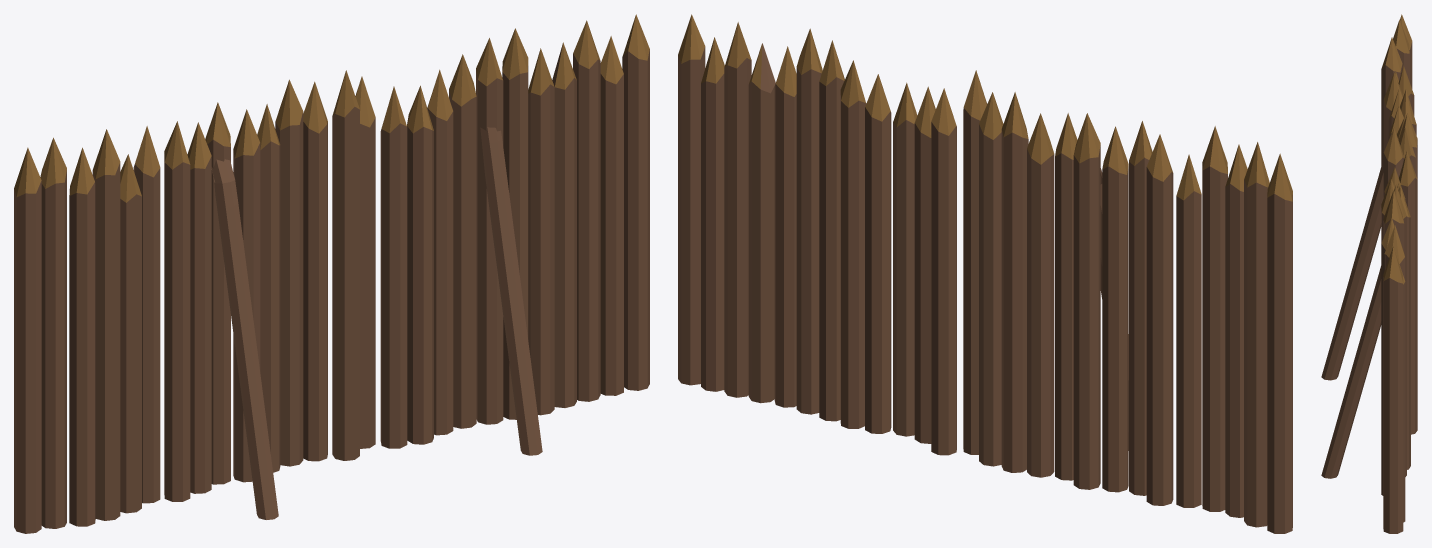
Rendered from Wall_Wood001.fbx.
The picture shows the model from 3 angles, left to right: view 1: azimuth 30°, elevation 25°; view 2: azimuth 150°, elevation 25°; view 3: azimuth 270°, elevation 25°; orthographic projection. The views are drawn at different scales.
Parts seen in each view (by area): view 1: Cylinder.023; view 2: Cylinder.023; view 3: Cylinder.023.
Boxes of the visible parts, bbox=[...] form: Cylinder.023: bbox=[14, 14, 649, 533]; Cylinder.023: bbox=[678, 14, 1292, 533]; Cylinder.023: bbox=[1321, 14, 1417, 533].
Size of the model in its own units: 694 by 409 by 121.
